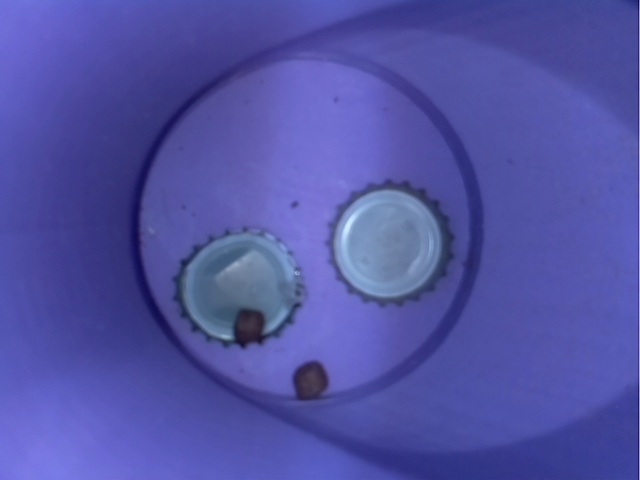capsule: (162, 214, 315, 358), (320, 173, 467, 308)
croquette: (279, 350, 335, 407), (227, 300, 272, 351)
